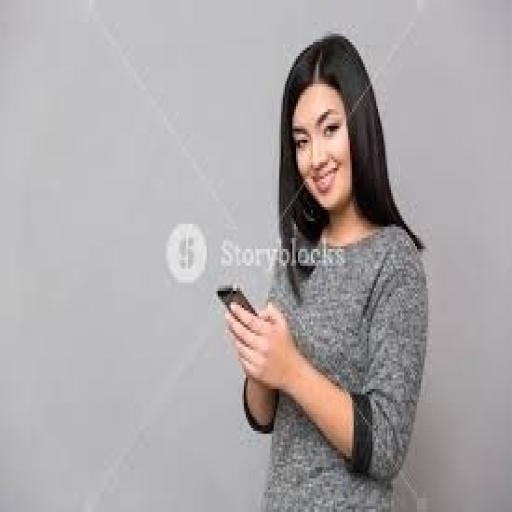texting: (220, 31, 430, 509)
